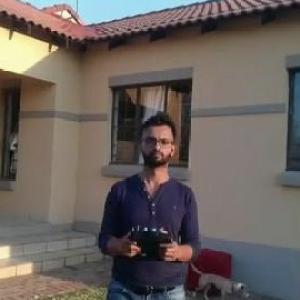follow: (89, 107, 207, 299)
null: (189, 257, 257, 299)
